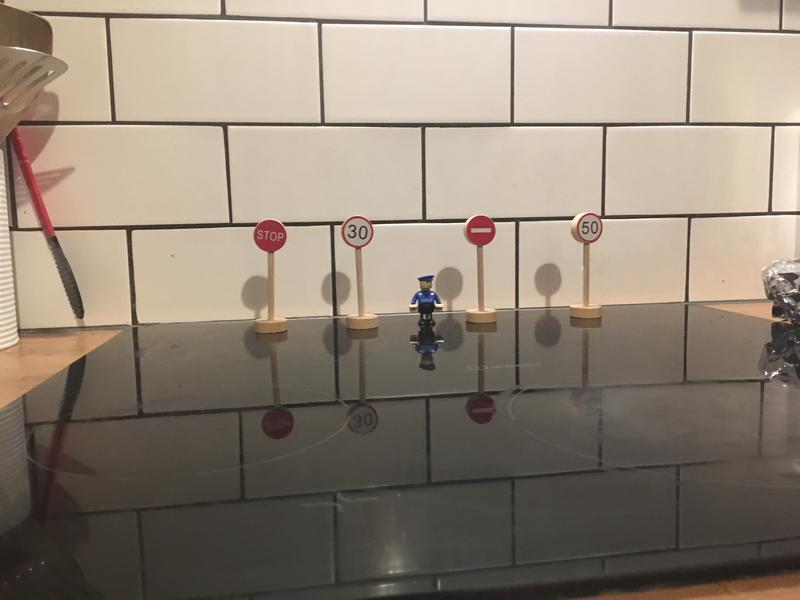Traffic_Sign_30: (342, 218, 375, 247)
Traffic_Sign_50: (577, 213, 603, 242)
Traffic_Sign_No_Entry: (467, 215, 495, 245)
Traffic_Sign_Stop: (254, 221, 287, 252)
person: (407, 274, 445, 329)
